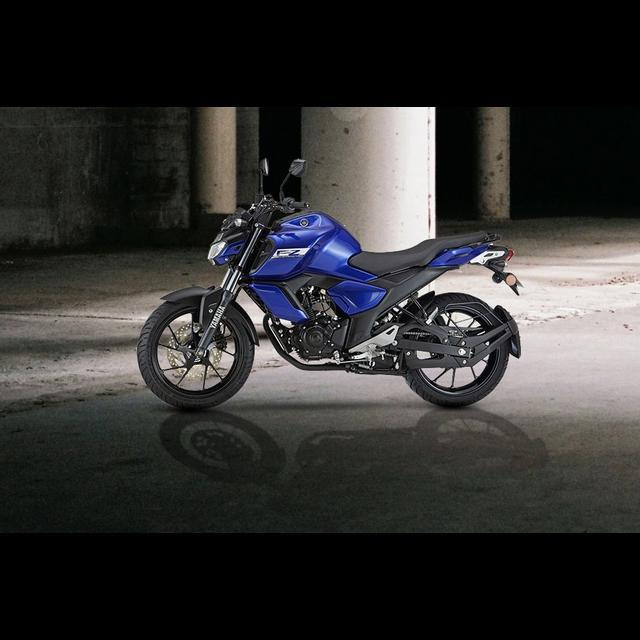motorcycle: (131, 149, 529, 419)
